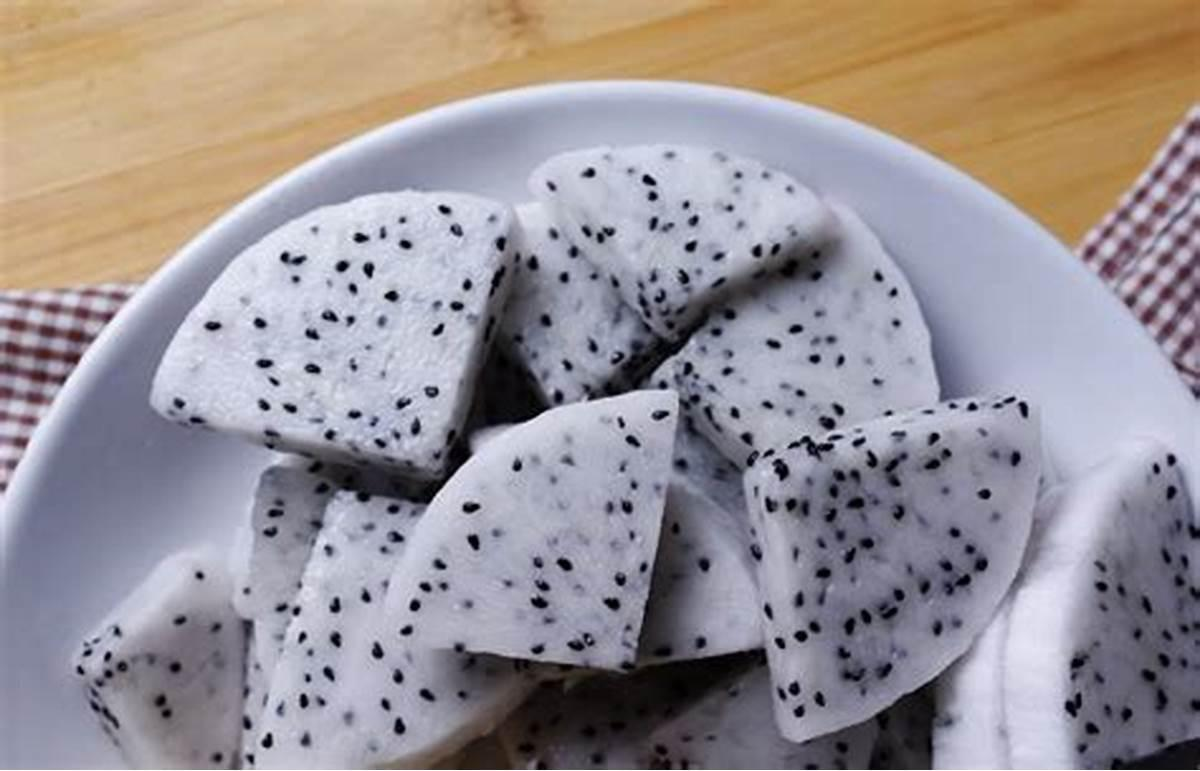dragon-fruit: (731, 392, 1049, 742), (144, 185, 502, 457), (384, 395, 696, 674), (241, 481, 494, 771), (997, 440, 1200, 771), (657, 208, 937, 444), (539, 144, 810, 309), (62, 545, 252, 770)
